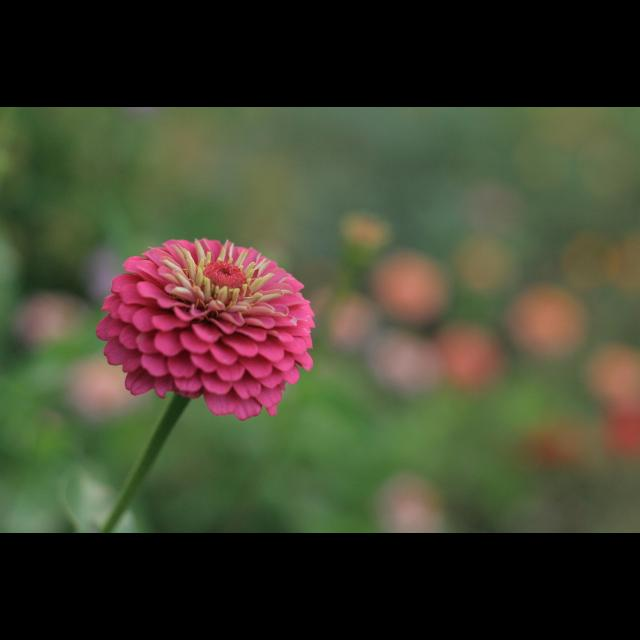Flower: (103, 232, 320, 434), (508, 286, 582, 358), (375, 256, 449, 324), (64, 359, 138, 421), (431, 327, 503, 385), (374, 334, 441, 394), (16, 292, 82, 348), (586, 348, 640, 412), (382, 485, 446, 533), (600, 398, 640, 458), (523, 423, 571, 471), (331, 296, 375, 348)
